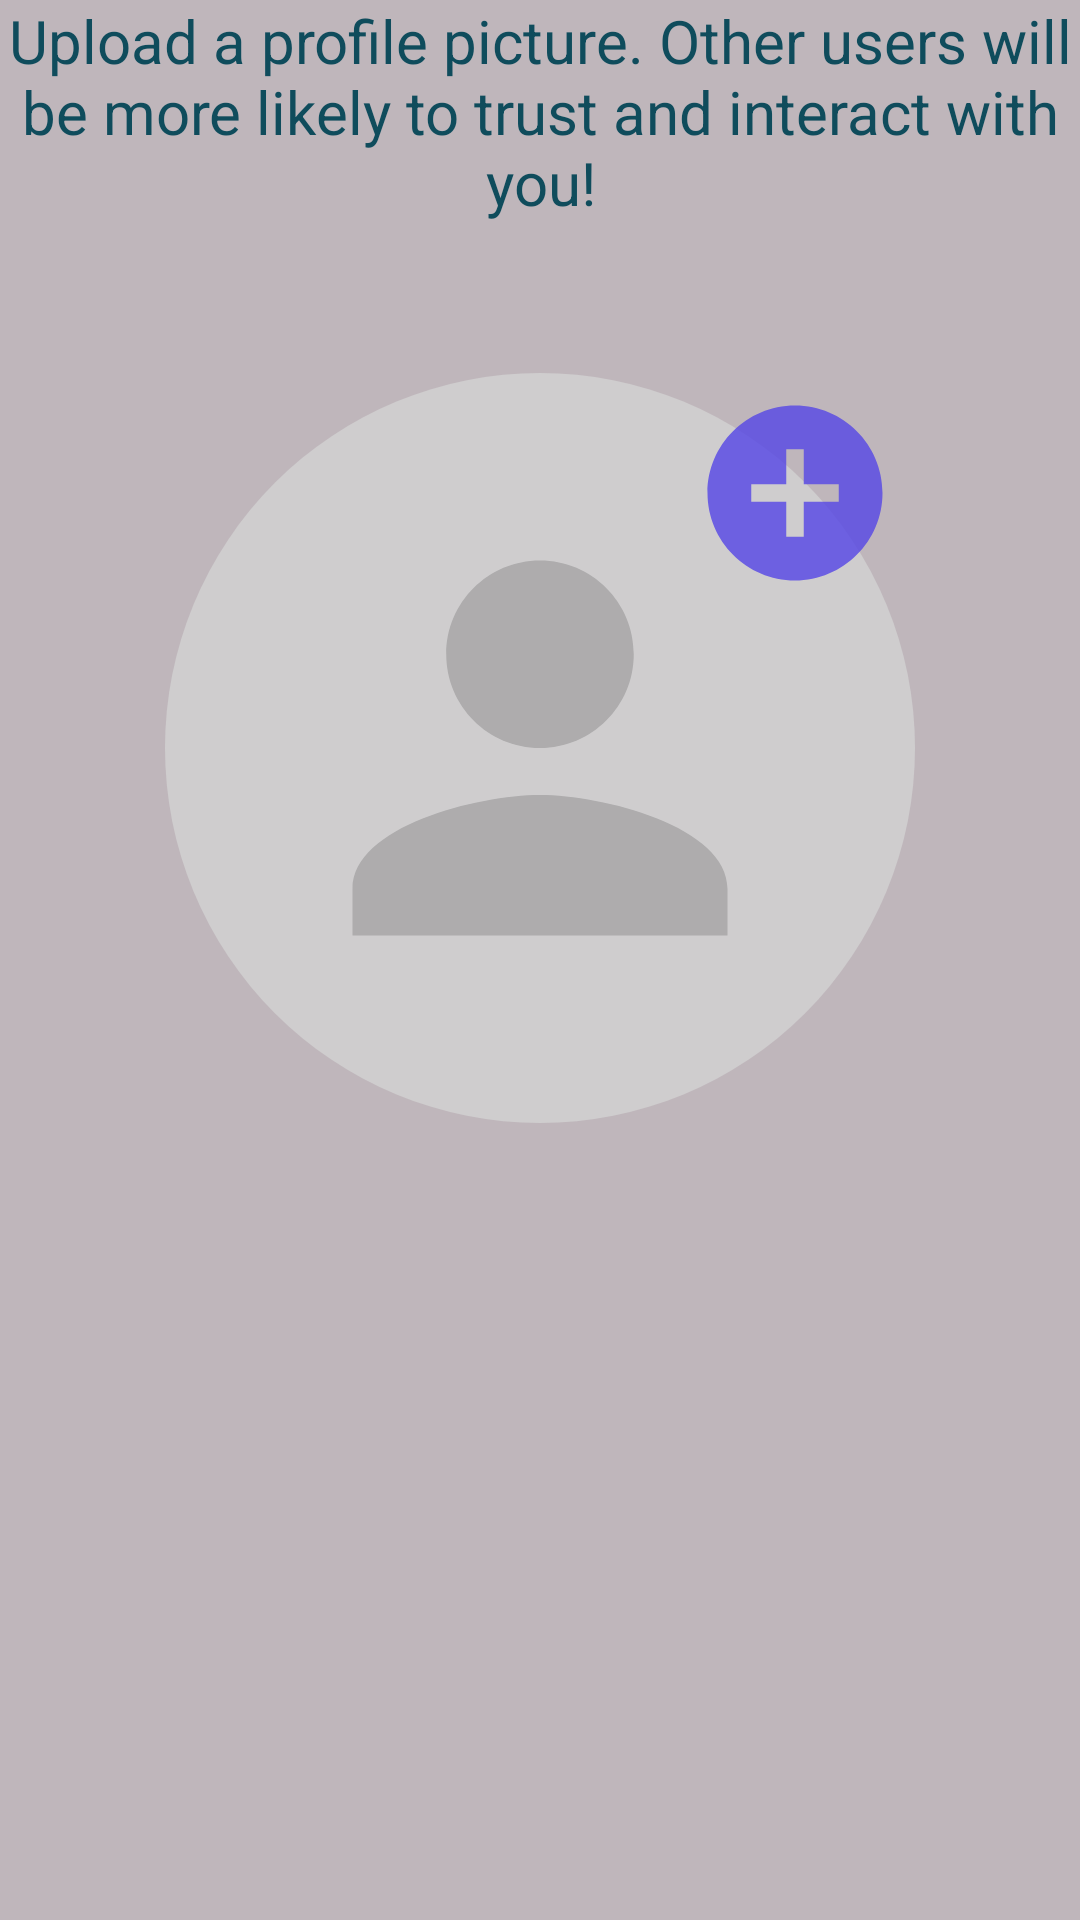

Icon click points for this 1080*1920 phone screenshot, format point (x, y):
add: point (795, 493)
